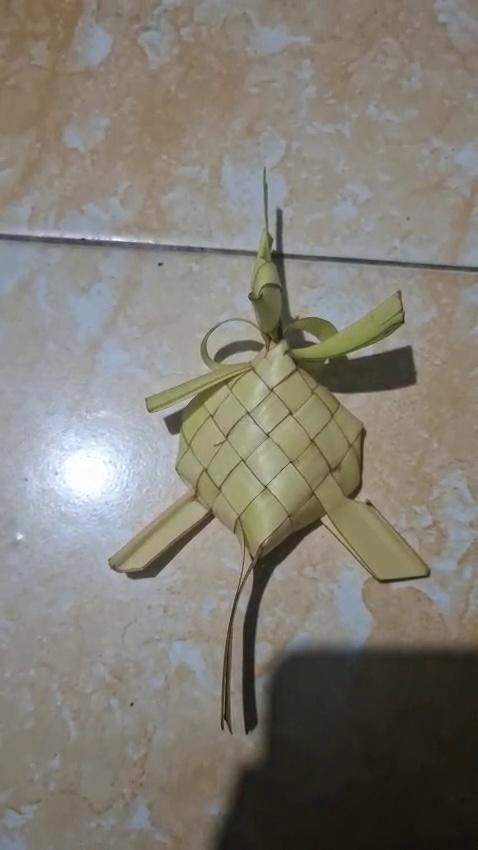Tipat Dampulan: (106, 177, 441, 735)
